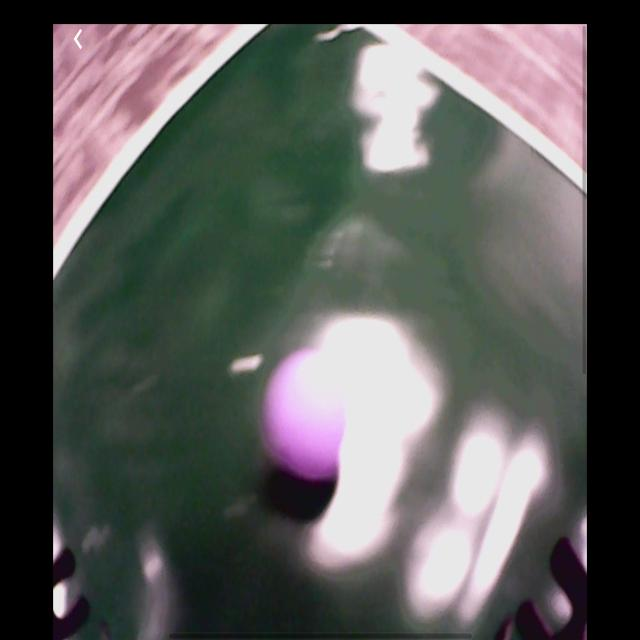ball: (262, 352, 350, 486)
